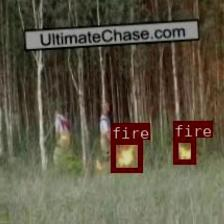fire: (110, 139, 142, 171), (172, 138, 196, 164)
